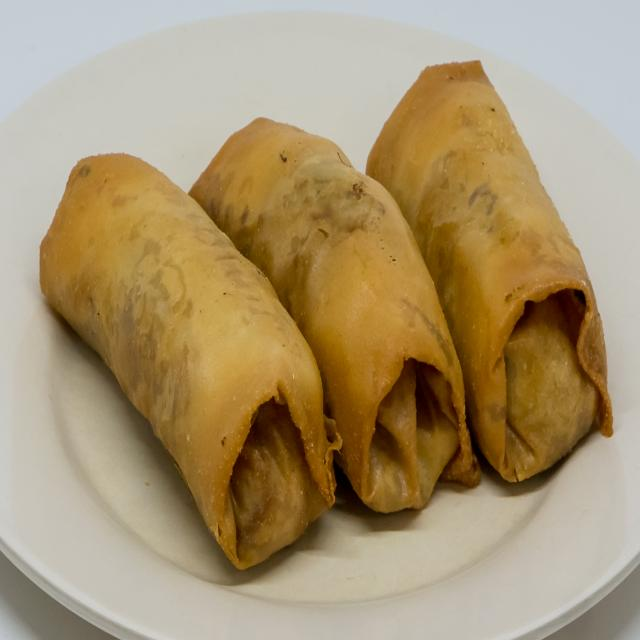Lumpia-Semarang: (25, 33, 620, 587)
